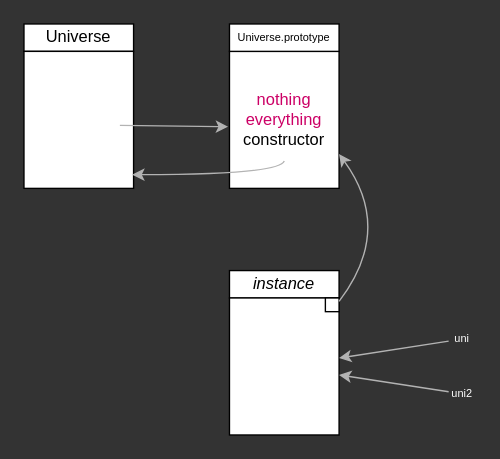
The diagram is 500 pixels wide and 459 high, and some of its shapes have lost their labels. Each missing label, with the centre of its shape:
prototype: point (78, 119)
start_time bang: point (283, 366)
